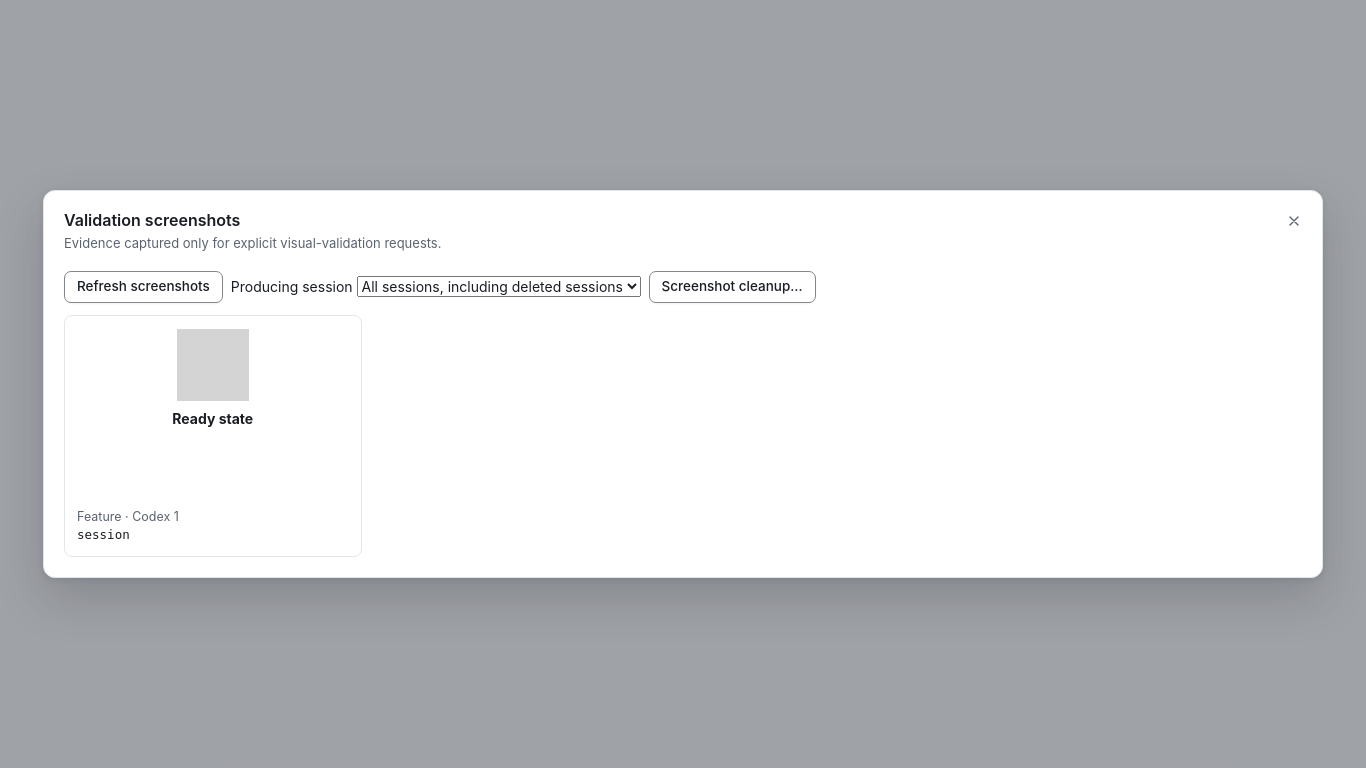
Test: clears cached images when the current feature disappears during refresh
Expected: the text "Ready state" is shown, [172,409,253,429]
Click the button "Refresh screenshots" at (143, 287), box [64,271,223,303]
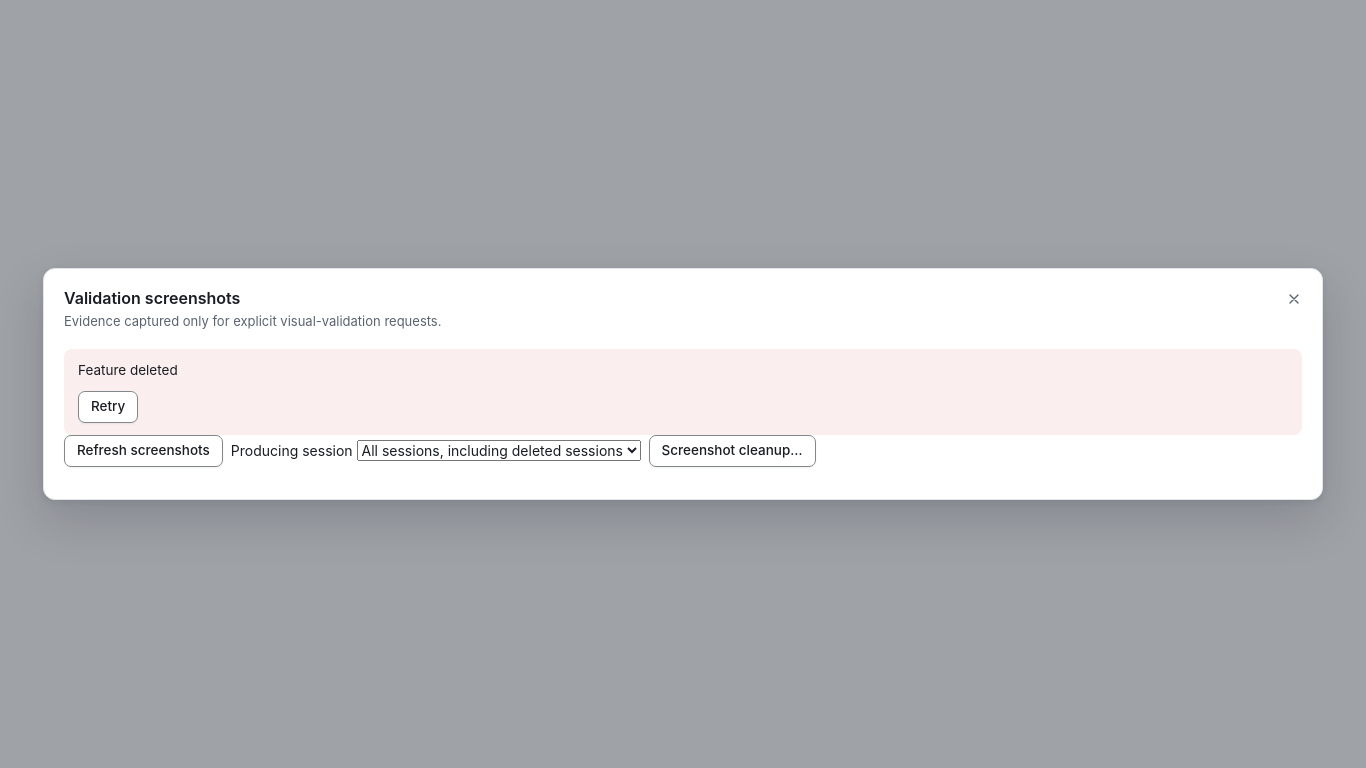
Now the text "Feature deleted" is shown, box [78,362,178,378]
Now the button "Ready state" is gone
